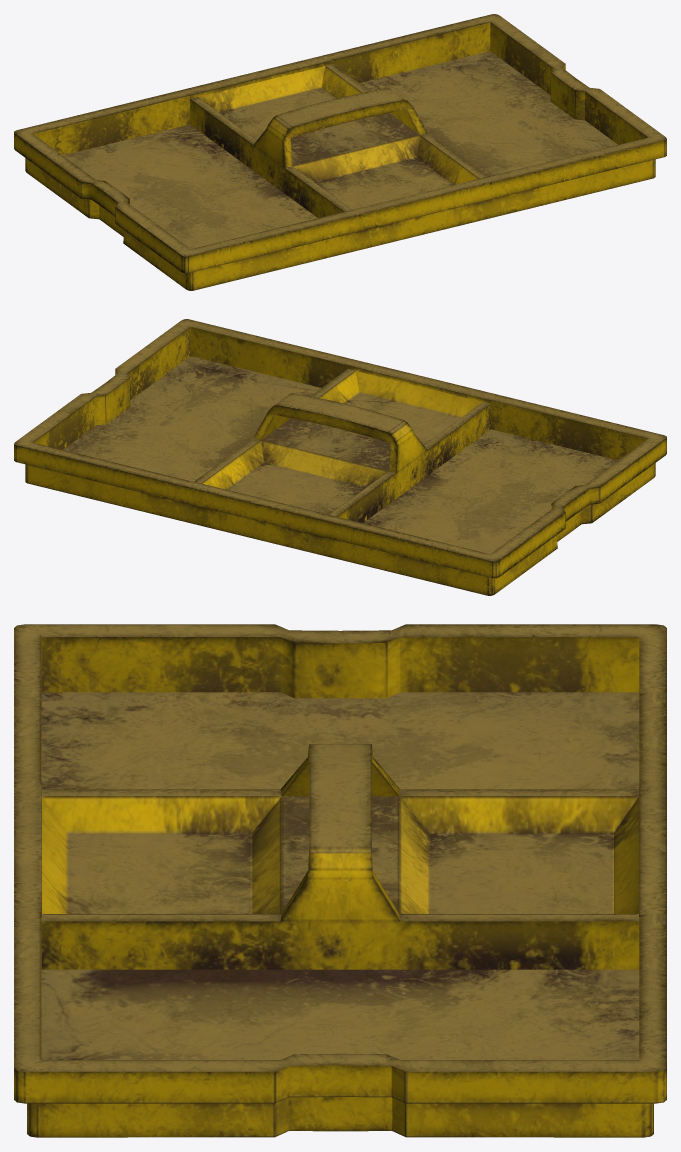
File: toolTray.fbx
The picture shows the model from 3 angles, top to bottom: view 1: azimuth 30°, elevation 25°; view 2: azimuth 150°, elevation 25°; view 3: azimuth 270°, elevation 25°; orthographic projection. The views are drawn at different scales.
Visible parts, largest first — view 1: Tool_Tray; view 2: Tool_Tray; view 3: Tool_Tray.
Boxes of the visible parts, <box> form: Tool_Tray: <box>14,14,666,290</box>; Tool_Tray: <box>14,319,666,595</box>; Tool_Tray: <box>14,624,666,1137</box>.
Size of the model in its own units: 28232 by 3800 by 17408.
